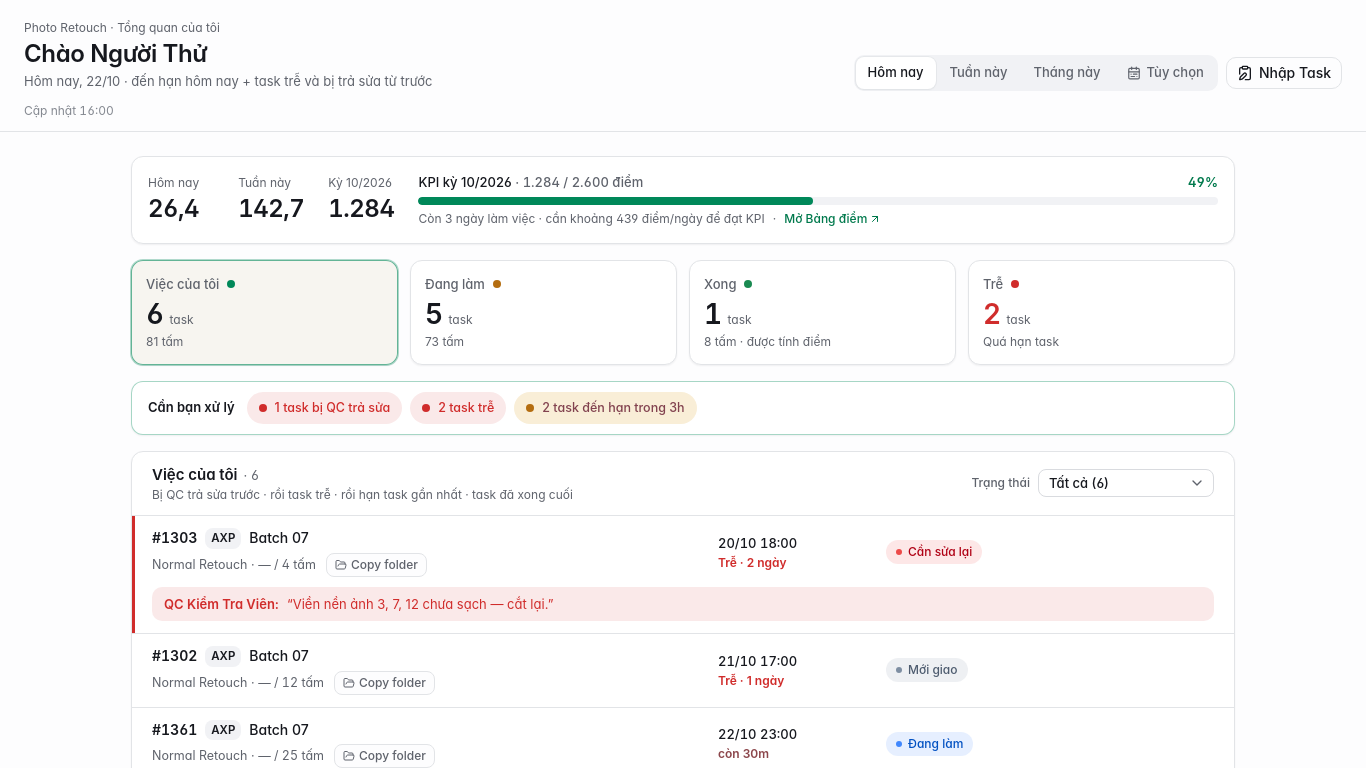
Test: Tổng quan của tôi (PD-081) › the time filter reloads the range and keeps it in the URL
The image size is (1366, 768).
Step 1. Click the button "Tuần này" → click(978, 73), box [938,57,1020,89]
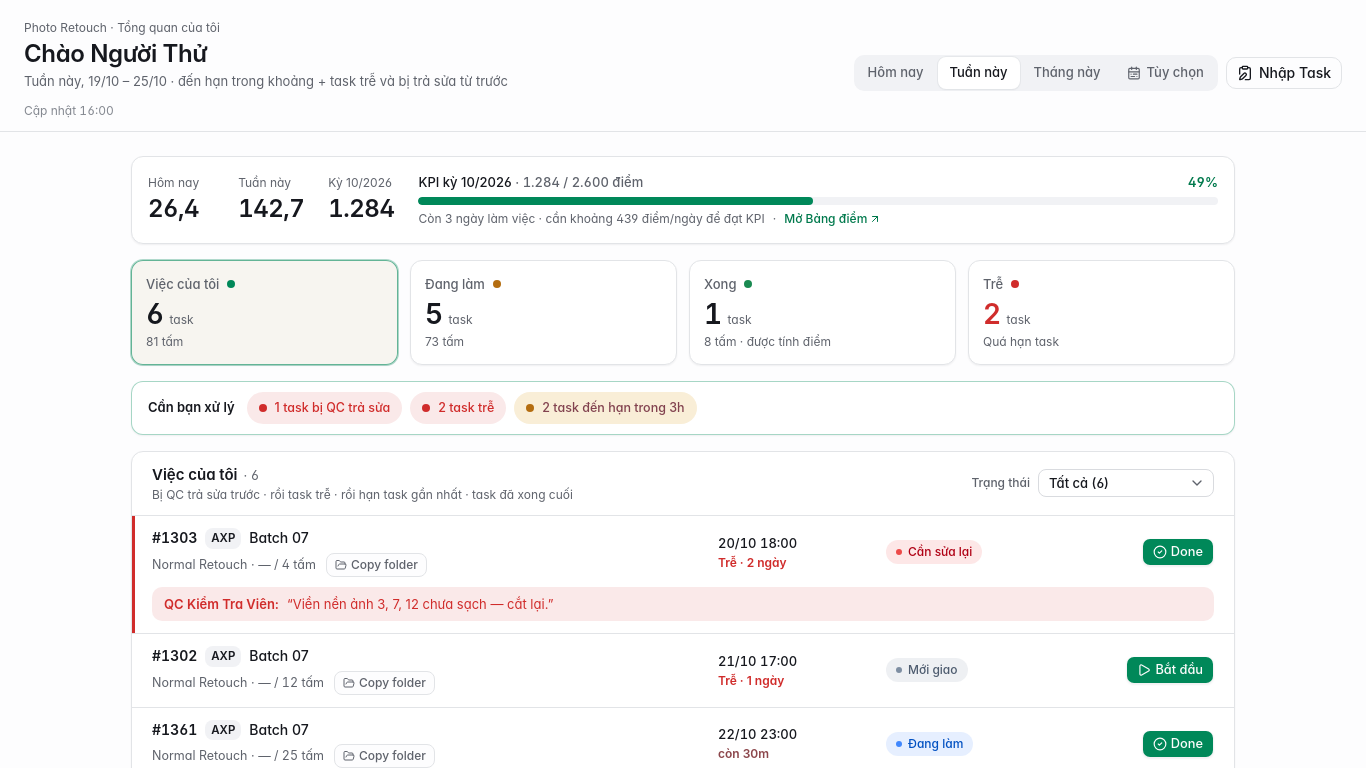
Expected: the text "Tuần này, 19/10 – 25/10" is shown, [24,73,508,89]
